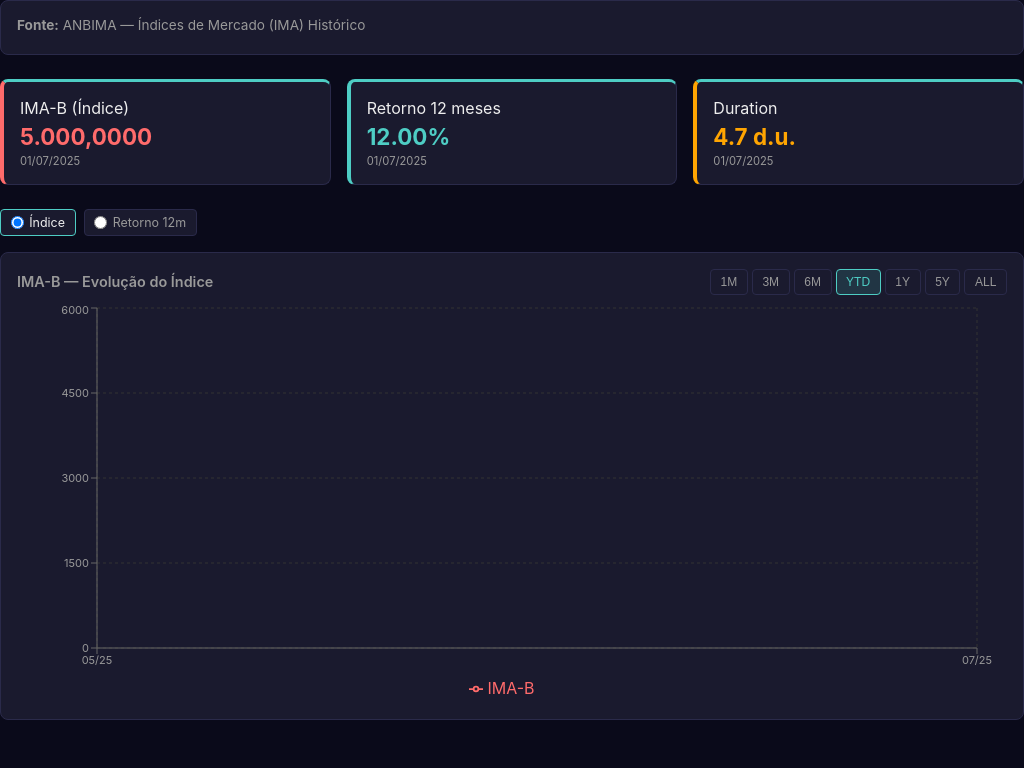
Test: Titulos › switches to Retorno 12m view
Expected: the text "IMA-B (Índice)" is shown, [20,98,129,118]
Click the radio button labelled "Retorno 12m" at (101, 223), box [94,216,107,229]
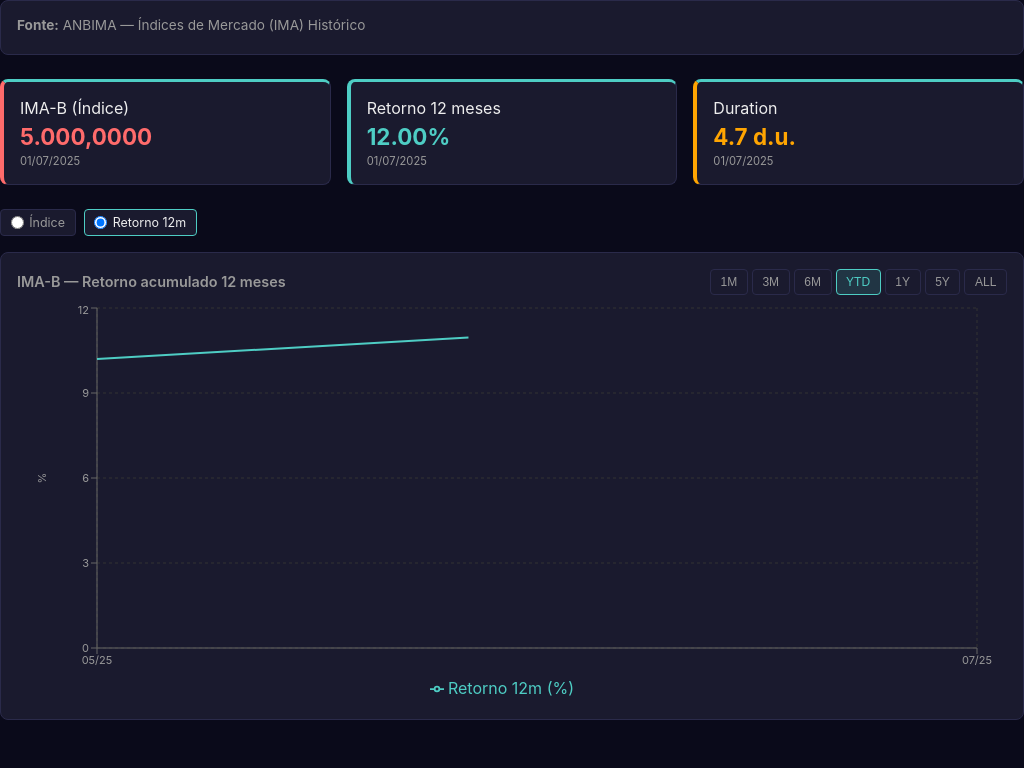
Now the heading "IMA-B — Retorno acumulado 12 meses" is shown, box [17,273,286,290]
